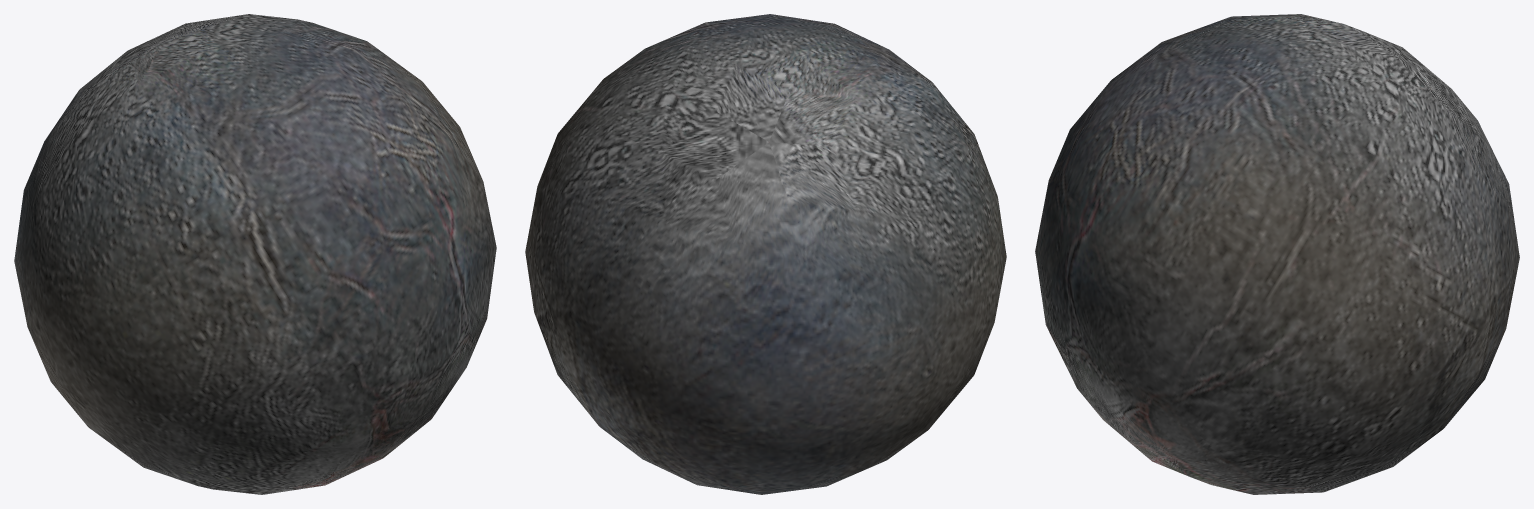
Rendered from planet.glb.
3 renders of one model, left to right at view 1: azimuth 30°, elevation 25°; view 2: azimuth 150°, elevation 25°; view 3: azimuth 270°, elevation 25°, orthographic.
Parts seen in each view (by area): view 1: Planet; view 2: Planet; view 3: Planet.
Boxes of the visible parts, x1=… form: Planet: x1=14, y1=14, x2=496, y2=494; Planet: x1=525, y1=14, x2=1006, y2=494; Planet: x1=1035, y1=14, x2=1519, y2=494.
Bounding box in the file's own units: 15.01 × 14.98 × 15.05.
1 material, 1 textured.
